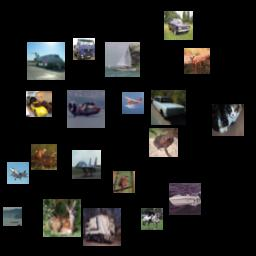airplane: (67, 90, 105, 128), (27, 42, 65, 80), (72, 150, 101, 179), (122, 92, 144, 114), (7, 162, 29, 184)
automobile: (151, 90, 186, 125), (164, 11, 193, 40), (26, 91, 52, 117)
bird: (113, 171, 135, 193)
cat: (212, 104, 244, 136)
deer: (43, 199, 81, 237), (184, 48, 210, 74)
frog: (149, 128, 178, 157), (31, 144, 57, 170)
ship: (105, 42, 140, 77), (169, 183, 201, 215), (3, 207, 22, 226)
truck: (83, 208, 121, 246), (73, 38, 95, 60)
